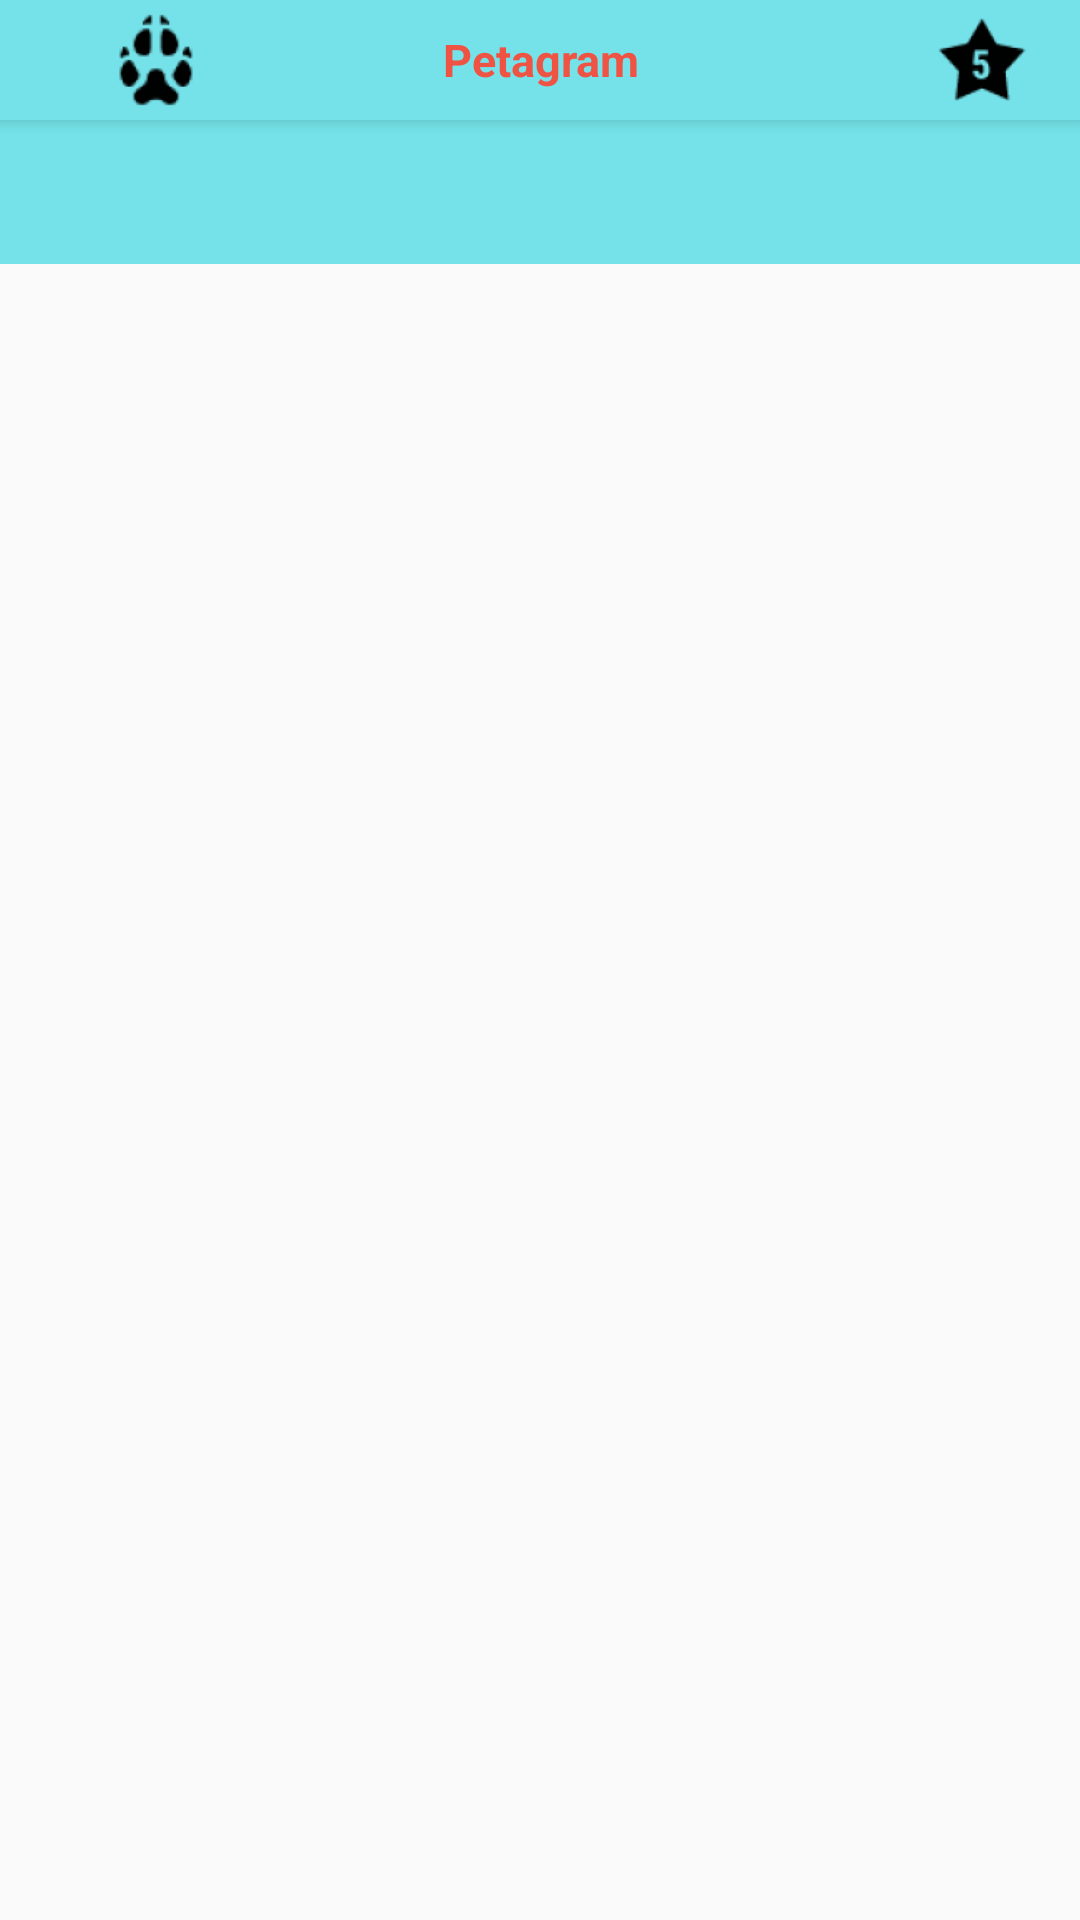

Icons on this 1080 × 1920 Android screen, each with the point to tap as [x,y]:
dog: [156,60]
estrella: [982,59]
